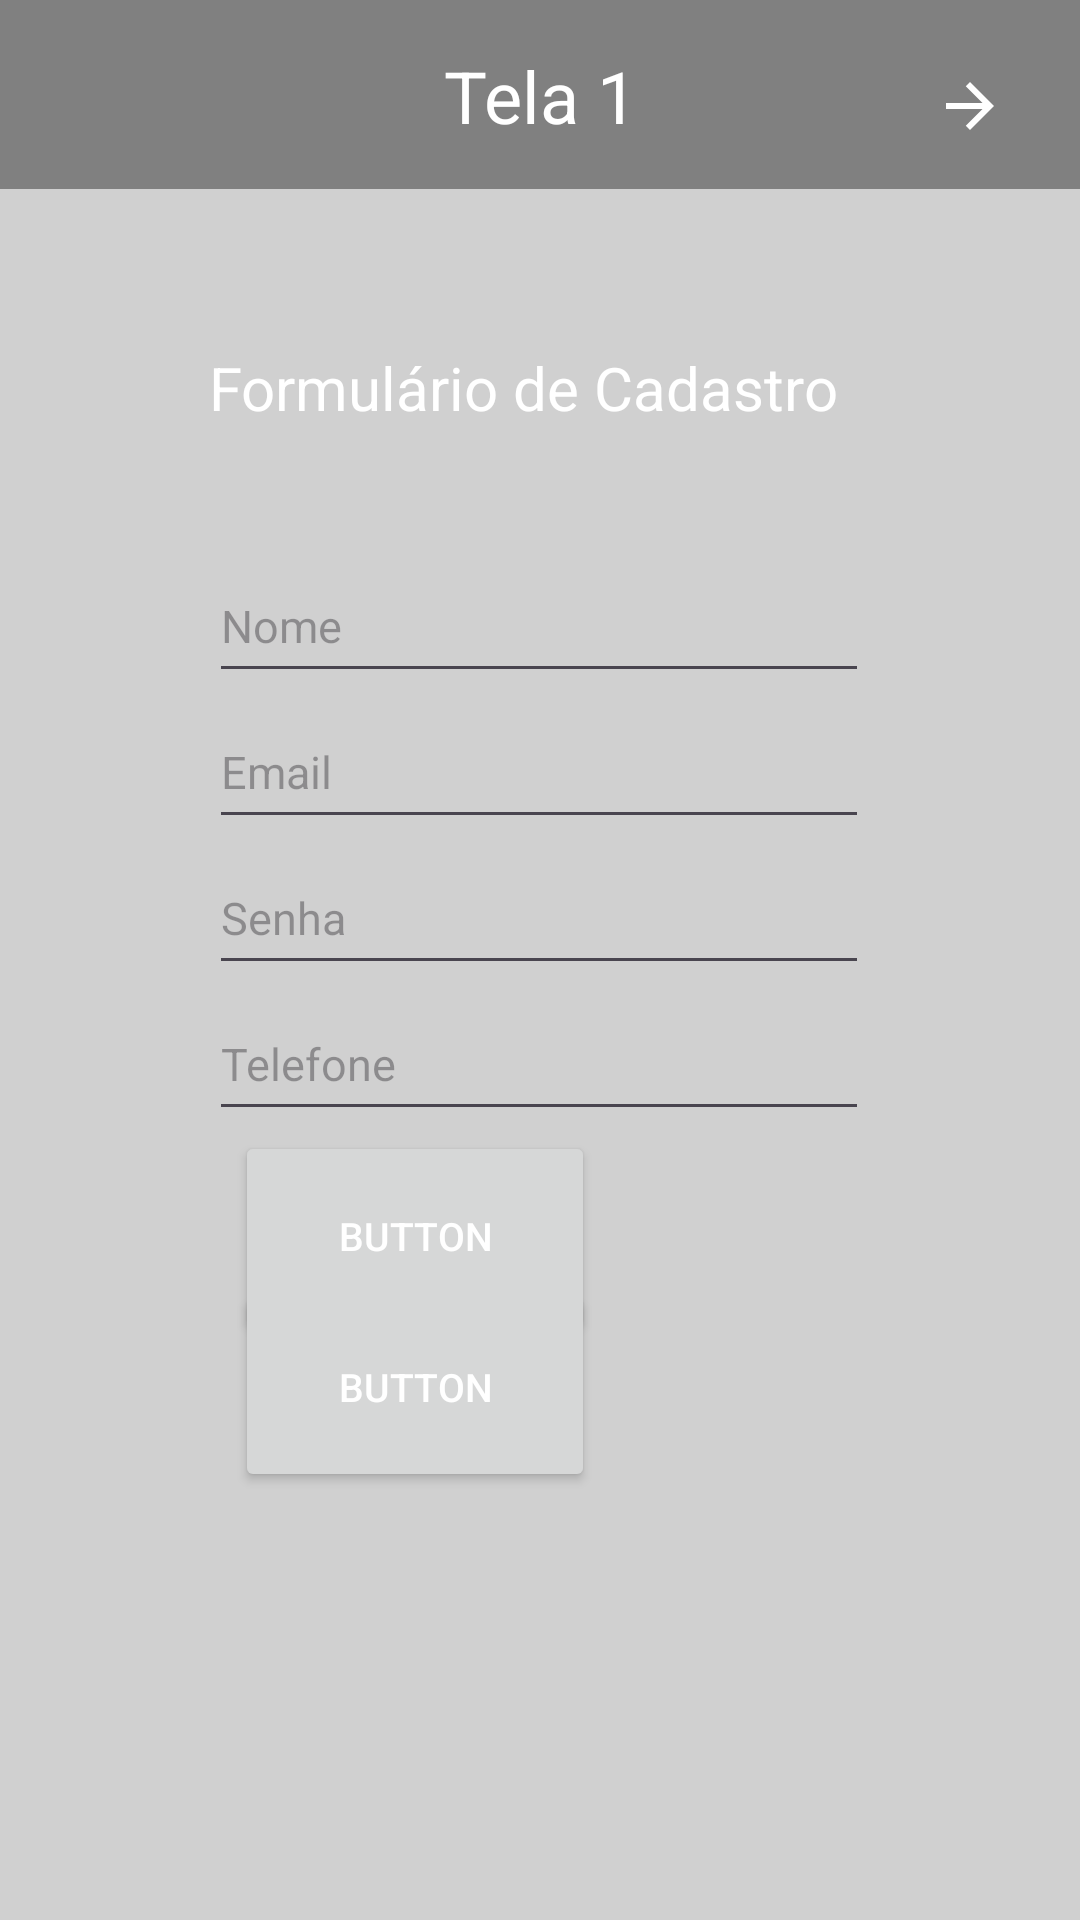

Screen size 1080px×1920px. Icon name, then its box in pixels as detection(x1, y1, x2, y2):
Botão avançar tela 1: detection(946, 82, 994, 130)
